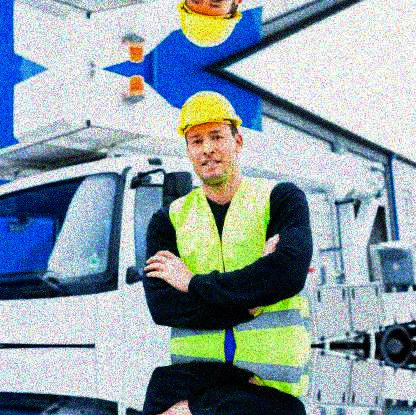helmet: (176, 89, 242, 181)
